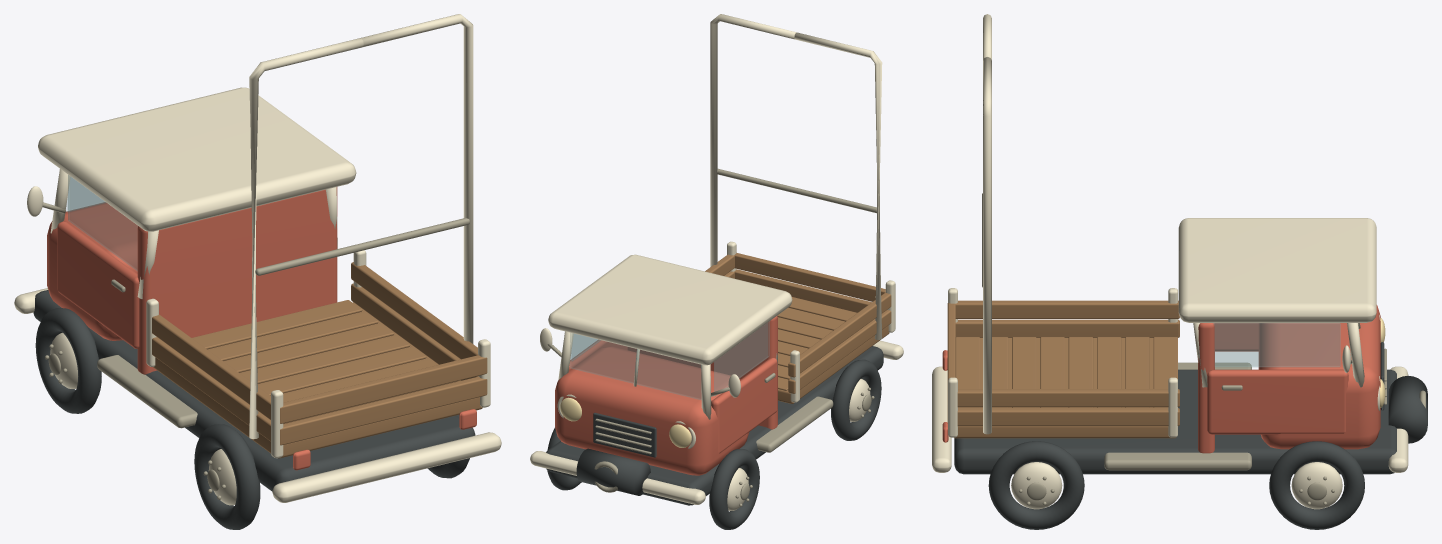
The model's file is courier_truck.glb.
3 renders of one model, left to right at view 1: azimuth 30°, elevation 25°; view 2: azimuth 150°, elevation 25°; view 3: azimuth 270°, elevation 25°, orthographic. The views are drawn at different scales.
Parts seen in each view (by area): view 1: StorybookTruck_Geometry, WheelRL_Geometry, WheelFL_Geometry; view 2: StorybookTruck_Geometry, WheelFL_Geometry, WheelRL_Geometry, WheelFR_Geometry; view 3: StorybookTruck_Geometry, WheelRR_Geometry, WheelFR_Geometry.
Part boxes in pixels (<box>): StorybookTruck_Geometry: <box>14,14,501,502</box>; WheelRL_Geometry: <box>194,424,260,529</box>; WheelFL_Geometry: <box>35,308,101,413</box>; StorybookTruck_Geometry: <box>530,14,903,505</box>; WheelFL_Geometry: <box>709,449,759,529</box>; WheelRL_Geometry: <box>831,359,881,440</box>; WheelFR_Geometry: <box>547,428,581,490</box>; StorybookTruck_Geometry: <box>932,14,1427,474</box>; WheelRR_Geometry: <box>988,441,1084,529</box>; WheelFR_Geometry: <box>1269,441,1364,529</box>.
Size of the model in its own units: 2.17 by 3.83 by 4.03.
